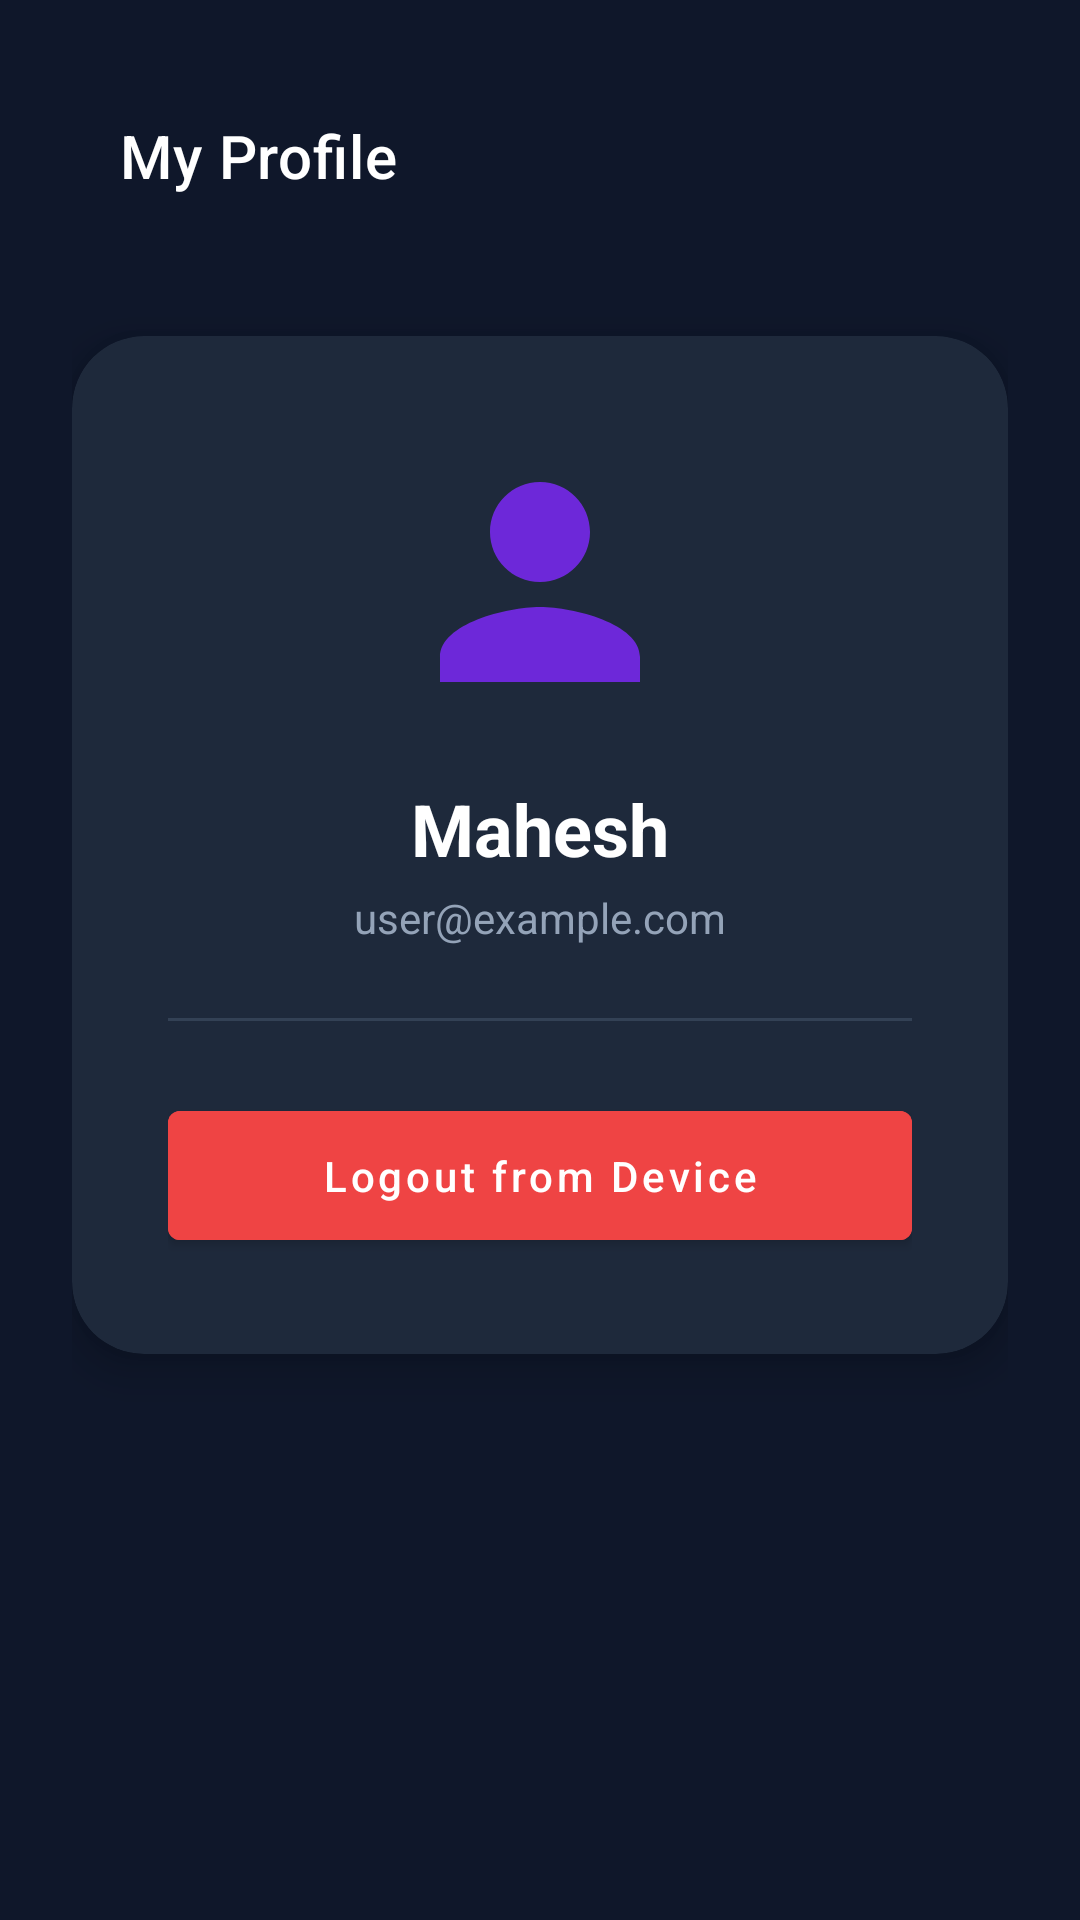

Locate icon controls on the screen. Image size 1080*1920, boxes as (x1, y1, x2, y2).
user: (440, 482, 640, 682)
